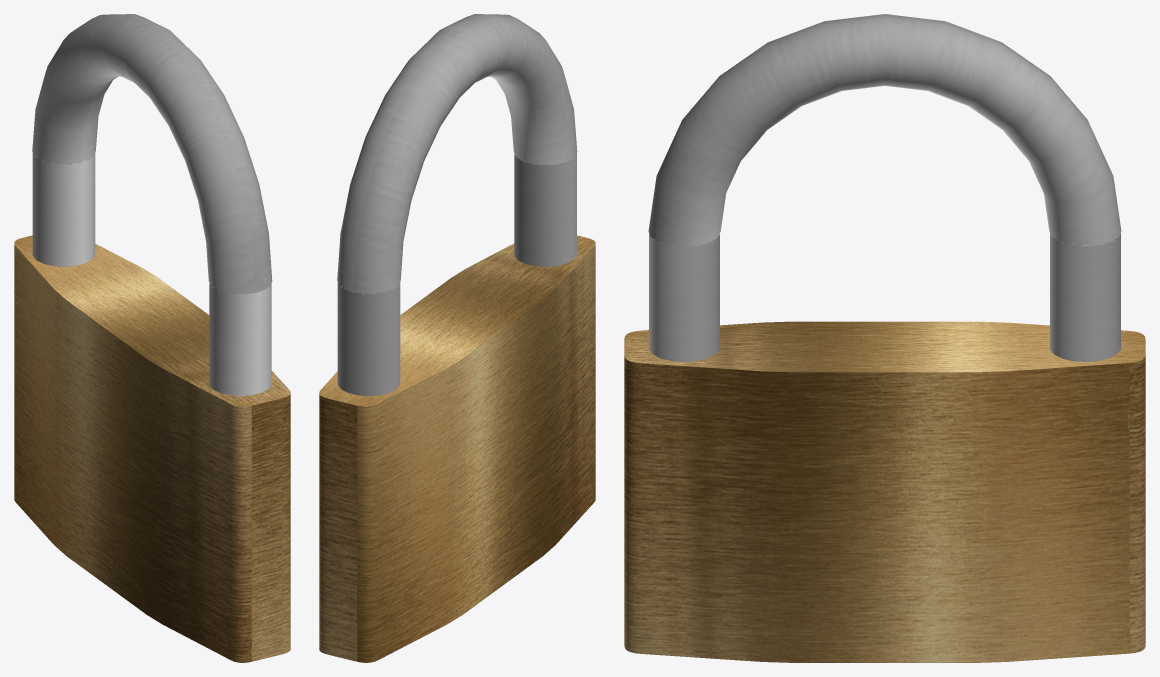
Rendered from Lock.FBX.
3 views of the same model, side by side, from view 1: azimuth 30°, elevation 25°; view 2: azimuth 150°, elevation 25°; view 3: azimuth 270°, elevation 25° (orthographic). The views are drawn at different scales.
Parts seen in each view (by area): view 1: Box001; view 2: Box001; view 3: Box001.
Boxes of the visible parts, x1,y1,x2,y2 form: Box001: (14, 14, 290, 662); Box001: (319, 14, 595, 662); Box001: (624, 14, 1145, 662).
Bounding box in the file's own units: 15 × 85.38 × 65.
